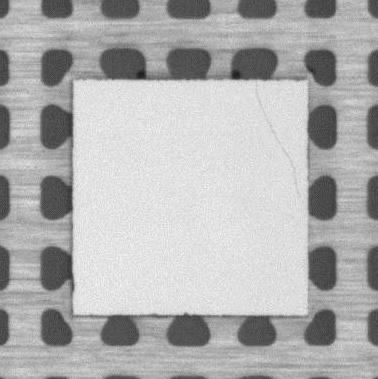DIE_CRACK: (255, 81, 301, 199)
